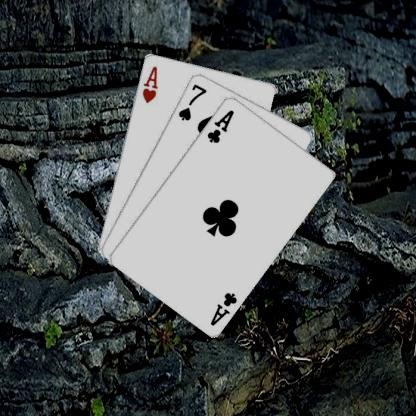7S: (176, 80, 208, 122)
AC: (204, 107, 236, 144), (208, 289, 238, 327)
AH: (140, 63, 159, 104)
